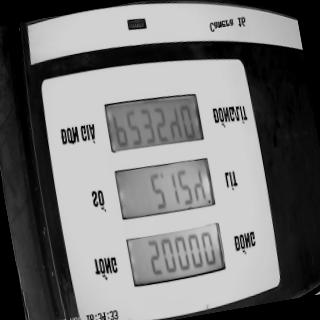screen: (100, 83, 230, 293)
